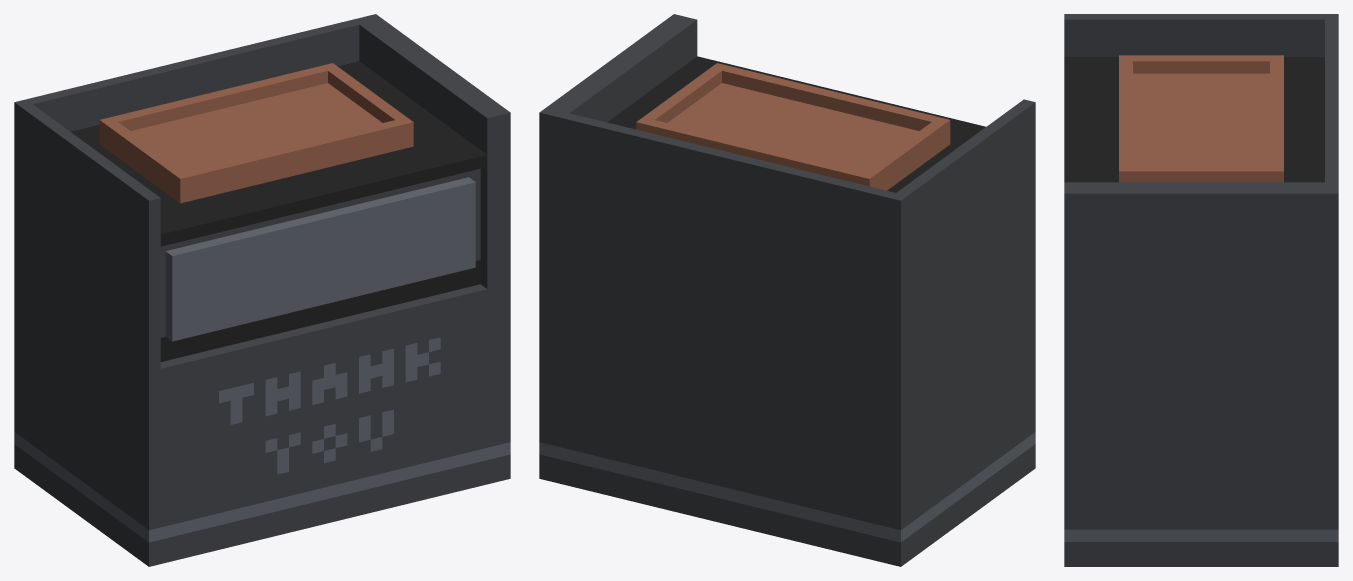
Rendered from trash.obj.
3 renders of one model, left to right at view 1: azimuth 30°, elevation 25°; view 2: azimuth 150°, elevation 25°; view 3: azimuth 270°, elevation 25°, orthographic.
Size of the model in its own units: 3.1 by 3 by 2.
Materials: 1 (1 with a texture image).
